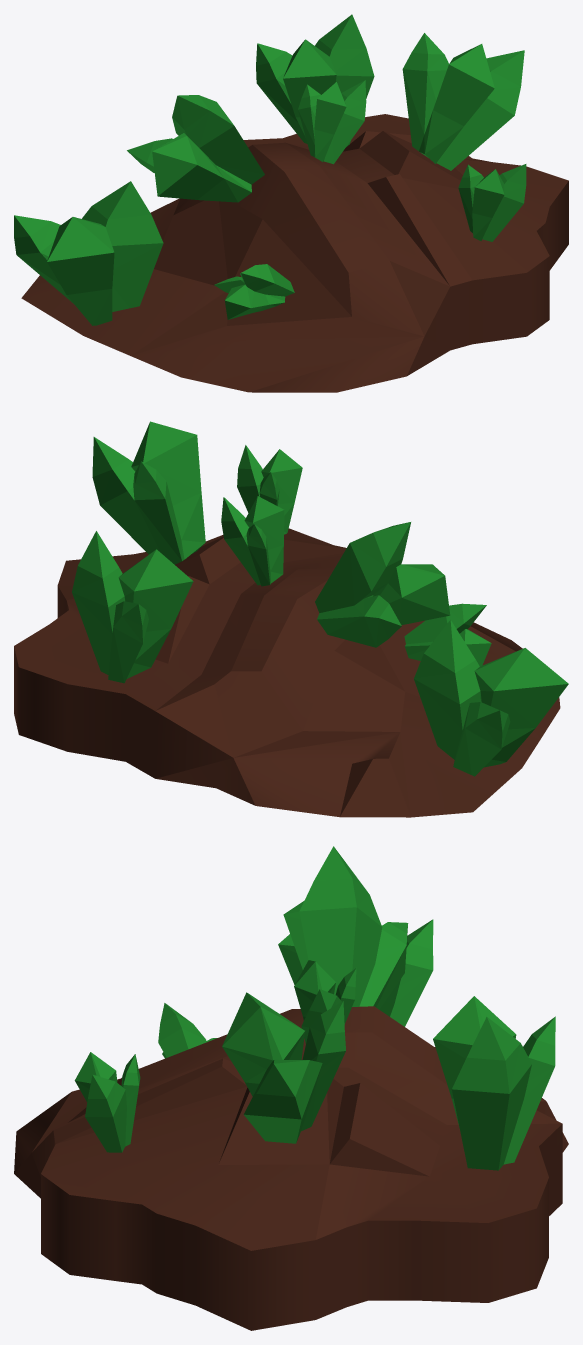
The model's file is Emerald_8_Tiled_Cup.fbx.
3 renders of one model, top to bottom at view 1: azimuth 30°, elevation 25°; view 2: azimuth 150°, elevation 25°; view 3: azimuth 270°, elevation 25°, orthographic. The views are drawn at different scales.
Parts seen in each view (by area): view 1: Rock_8_Cup_SoL, Rock_8_Cup_SoL.001, Rock_8_Cup_SoL.003, Rock_8_Cup_SoL.004, Rock_8_Cup_SoL.002, Rock_8_Cup_SoL.005, Rock_8_Cup_SoL.006, Rock_8_Cup_SoL.007; view 2: Rock_8_Cup_SoL, Rock_8_Cup_SoL.001, Rock_8_Cup_SoL.003, Rock_8_Cup_SoL.002, Rock_8_Cup_SoL.004, Rock_8_Cup_SoL.005, Rock_8_Cup_SoL.006, Rock_8_Cup_SoL.007; view 3: Rock_8_Cup_SoL, Rock_8_Cup_SoL.002, Rock_8_Cup_SoL.003, Rock_8_Cup_SoL.004, Rock_8_Cup_SoL.006, Rock_8_Cup_SoL.001, Rock_8_Cup_SoL.005, Rock_8_Cup_SoL.007.
Boxes of the visible parts, left/top/right/bottom form: Rock_8_Cup_SoL: left=21, top=114, right=568, bottom=392; Rock_8_Cup_SoL.001: left=14, top=181, right=163, bottom=325; Rock_8_Cup_SoL.003: left=402, top=33, right=524, bottom=170; Rock_8_Cup_SoL.004: left=127, top=95, right=264, bottom=202; Rock_8_Cup_SoL.002: left=256, top=14, right=374, bottom=146; Rock_8_Cup_SoL.005: left=298, top=80, right=366, bottom=164; Rock_8_Cup_SoL.006: left=458, top=164, right=526, bottom=241; Rock_8_Cup_SoL.007: left=214, top=264, right=294, bottom=319; Rock_8_Cup_SoL: left=14, top=528, right=560, bottom=817; Rock_8_Cup_SoL.001: left=414, top=620, right=568, bottom=776; Rock_8_Cup_SoL.003: left=92, top=421, right=205, bottom=564; Rock_8_Cup_SoL.002: left=72, top=531, right=193, bottom=683; Rock_8_Cup_SoL.004: left=315, top=522, right=450, bottom=647; Rock_8_Cup_SoL.005: left=221, top=496, right=284, bottom=586; Rock_8_Cup_SoL.006: left=237, top=445, right=302, bottom=534; Rock_8_Cup_SoL.007: left=404, top=603, right=491, bottom=666; Rock_8_Cup_SoL: left=14, top=1006, right=568, bottom=1330; Rock_8_Cup_SoL.002: left=433, top=996, right=555, bottom=1170; Rock_8_Cup_SoL.003: left=222, top=992, right=345, bottom=1143; Rock_8_Cup_SoL.004: left=283, top=846, right=408, bottom=1009; Rock_8_Cup_SoL.006: left=74, top=1052, right=140, bottom=1152; Rock_8_Cup_SoL.001: left=278, top=919, right=433, bottom=1026; Rock_8_Cup_SoL.005: left=294, top=960, right=356, bottom=1043; Rock_8_Cup_SoL.007: left=158, top=1003, right=216, bottom=1058.
Bounding box in the file's own units: 1611 × 674 × 1241.
